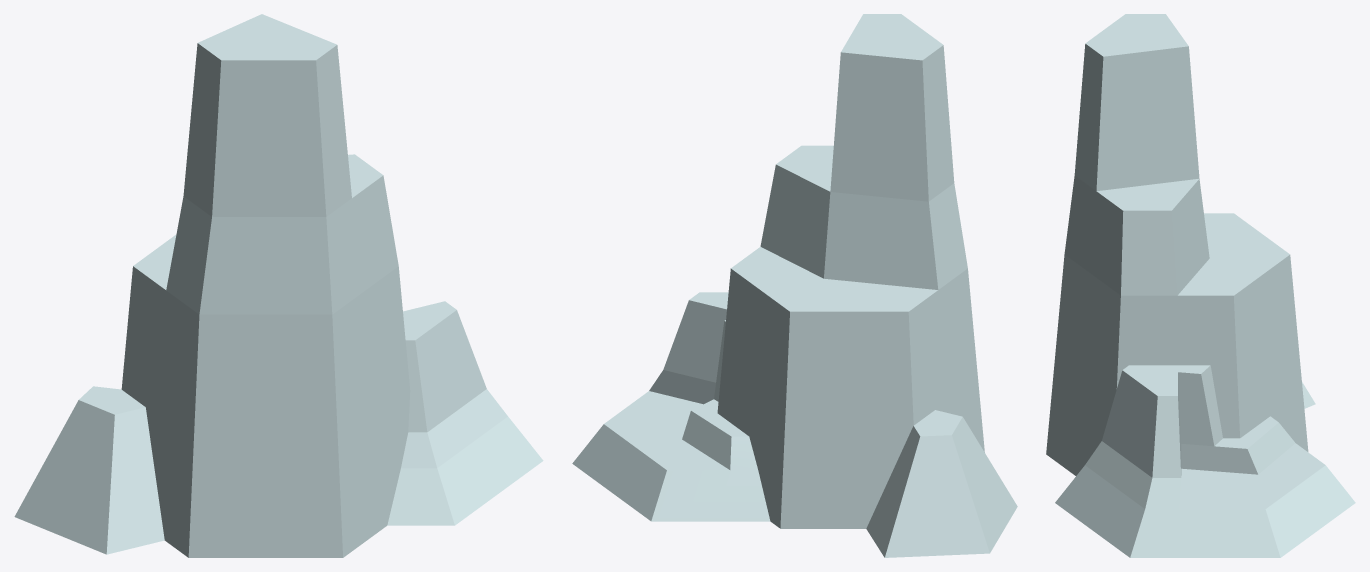
File: stone_tallA.glb
The picture shows the model from 3 angles, left to right: view 1: azimuth 30°, elevation 25°; view 2: azimuth 150°, elevation 25°; view 3: azimuth 270°, elevation 25°; orthographic projection. The views are drawn at different scales.
Parts seen in each view (by area): view 1: stone_tallA; view 2: stone_tallA; view 3: stone_tallA.
Boxes of the visible parts, x1,y1,x2,y2 form: stone_tallA: (14,14,543,557); stone_tallA: (572,14,1017,557); stone_tallA: (1046,14,1355,557).
Bounding box in the file's own units: 0.9831 × 0.9959 × 0.6832.
Materials: 1 (1 with a texture image).
